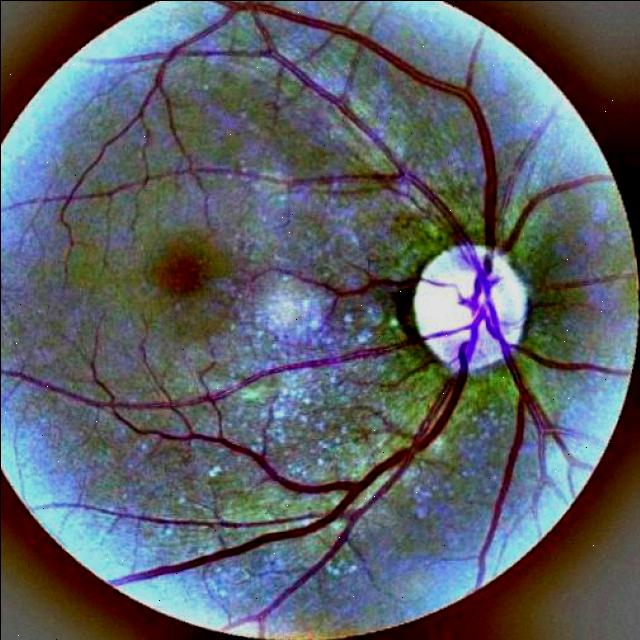Macula: (154, 249, 208, 296)
Nerves: (0, 0, 629, 585), (127, 342, 472, 621), (483, 353, 538, 555), (532, 274, 627, 307), (293, 276, 418, 298), (475, 109, 493, 218)
Optic Disk: (413, 244, 527, 371)
